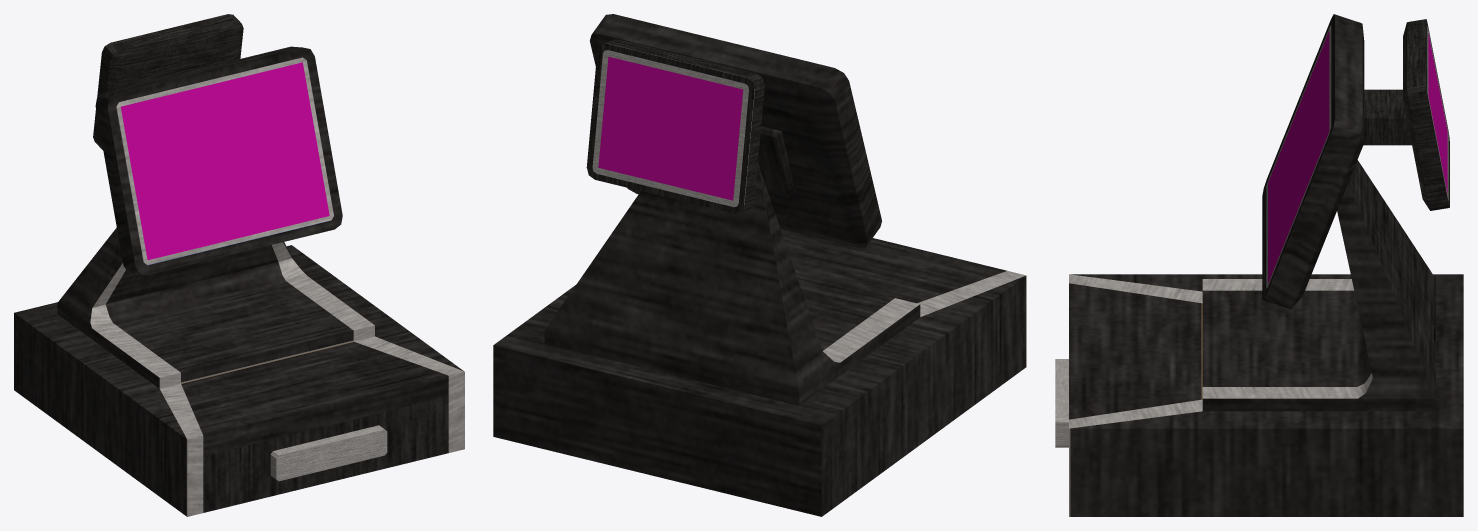
Rendered from cashier.fbx.
3 renders of one model, left to right at view 1: azimuth 30°, elevation 25°; view 2: azimuth 150°, elevation 25°; view 3: azimuth 270°, elevation 25°, orthographic. The views are drawn at different scales.
Parts seen in each view (by area): view 1: cashierBody, cashierDrawer, secondDisplay, cashierDrawerHandle; view 2: cashierBody, secondDisplay; view 3: cashierBody, secondDisplay, cashierDrawerHandle.
Boxes of the visible parts, x1,y1,x2,y2 form: cashierBody: (14,46,464,516); cashierDrawer: (203,396,448,512); secondDisplay: (93,14,243,150); cashierDrawerHandle: (270,425,387,481); cashierBody: (493,14,1026,516); secondDisplay: (586,39,764,213); cashierBody: (1069,14,1463,516); secondDisplay: (1363,19,1449,210); cashierDrawerHandle: (1055,359,1068,447).
Size of the model in its own units: 46.88 by 54.86 by 52.34.
2 materials, 1 textured.
